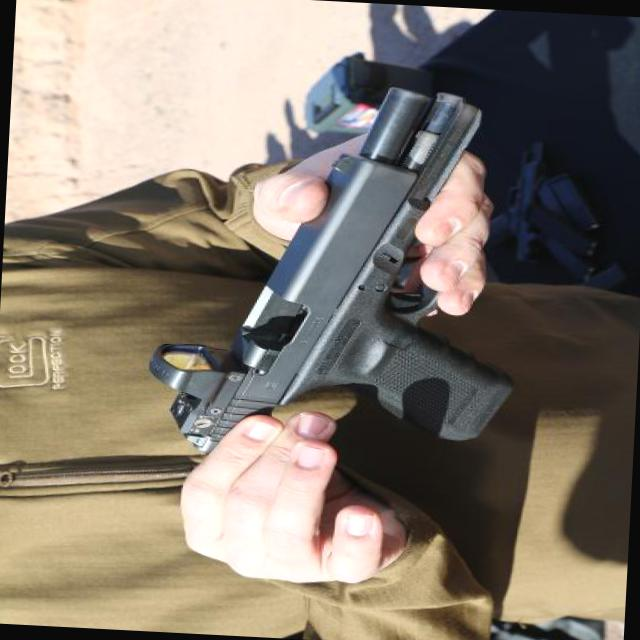handgun: (115, 70, 530, 500)
